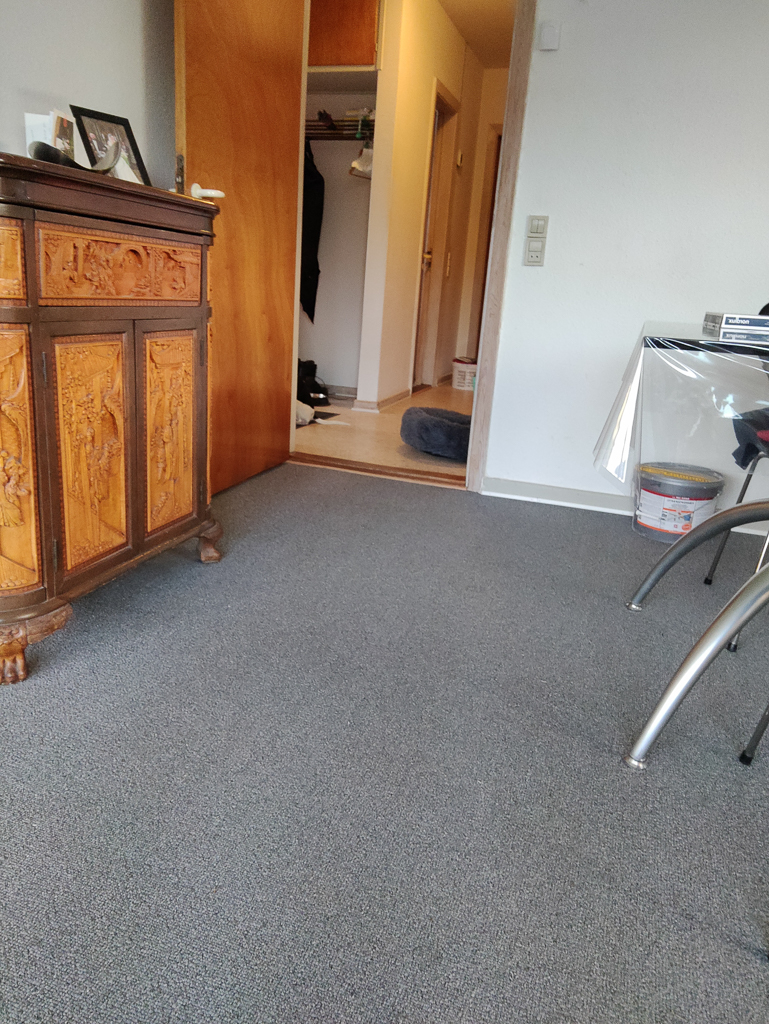Dog: (293, 354, 360, 436)
